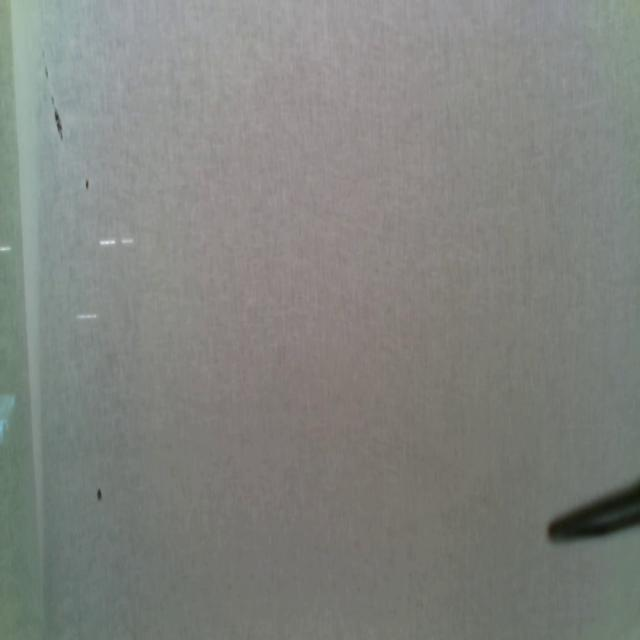crease: (9, 0, 44, 604)
hole: (50, 92, 64, 140), (44, 64, 50, 82), (84, 177, 91, 192), (96, 487, 102, 503), (41, 49, 46, 60)
